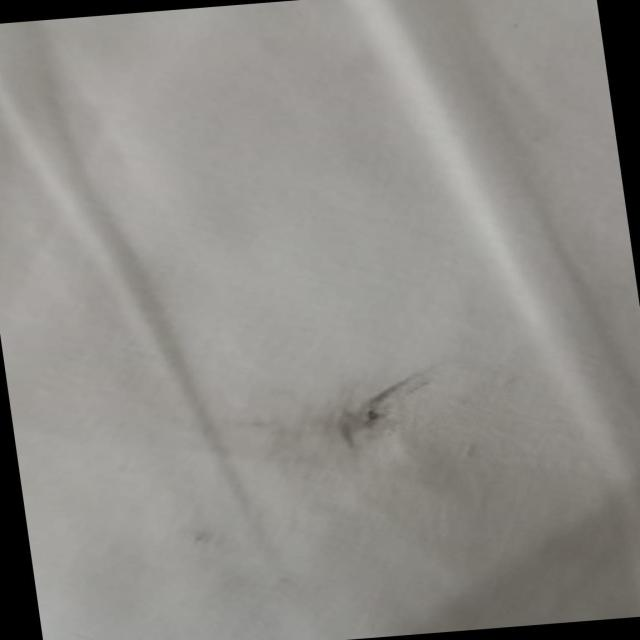stain: (234, 352, 471, 484), (168, 512, 239, 568)
